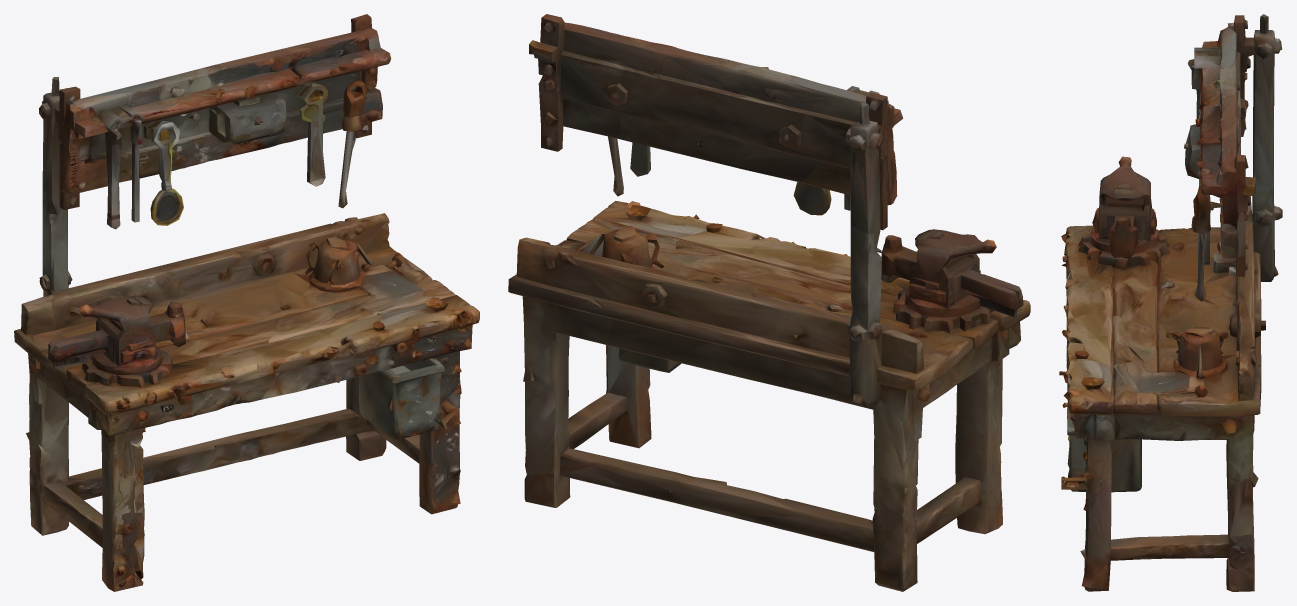
File: workbench_idle.glb
The picture shows the model from 3 angles, left to right: view 1: azimuth 30°, elevation 25°; view 2: azimuth 150°, elevation 25°; view 3: azimuth 270°, elevation 25°; orthographic projection. The views are drawn at different scales.
Visible parts, largest first — view 1: tripo_node_f1be20fd-b115-4b94-853d-534015c79b41; view 2: tripo_node_f1be20fd-b115-4b94-853d-534015c79b41; view 3: tripo_node_f1be20fd-b115-4b94-853d-534015c79b41.
Boxes of the visible parts, x1,y1,x2,y2 form: tripo_node_f1be20fd-b115-4b94-853d-534015c79b41: [14, 14, 479, 591]; tripo_node_f1be20fd-b115-4b94-853d-534015c79b41: [508, 14, 1030, 591]; tripo_node_f1be20fd-b115-4b94-853d-534015c79b41: [1059, 14, 1282, 591].
Bounding box in the file's own units: 0.903 × 0.9484 × 0.4488.
Materials: 1 (1 with a texture image).
